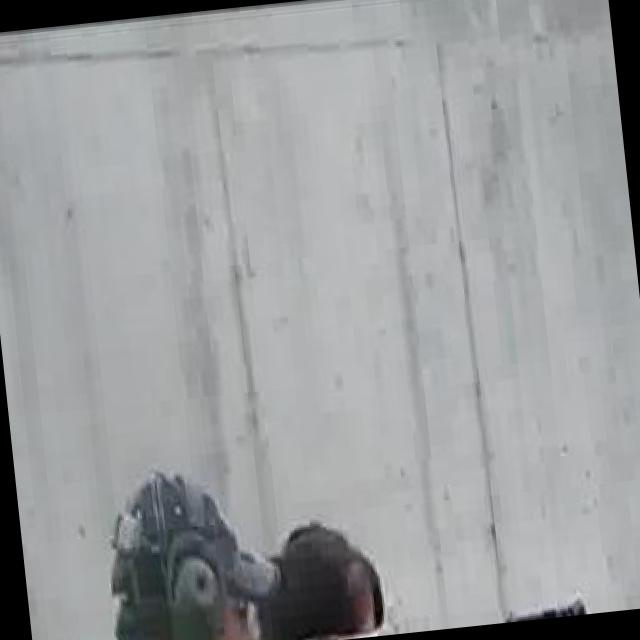Guns: (496, 586, 586, 623)
